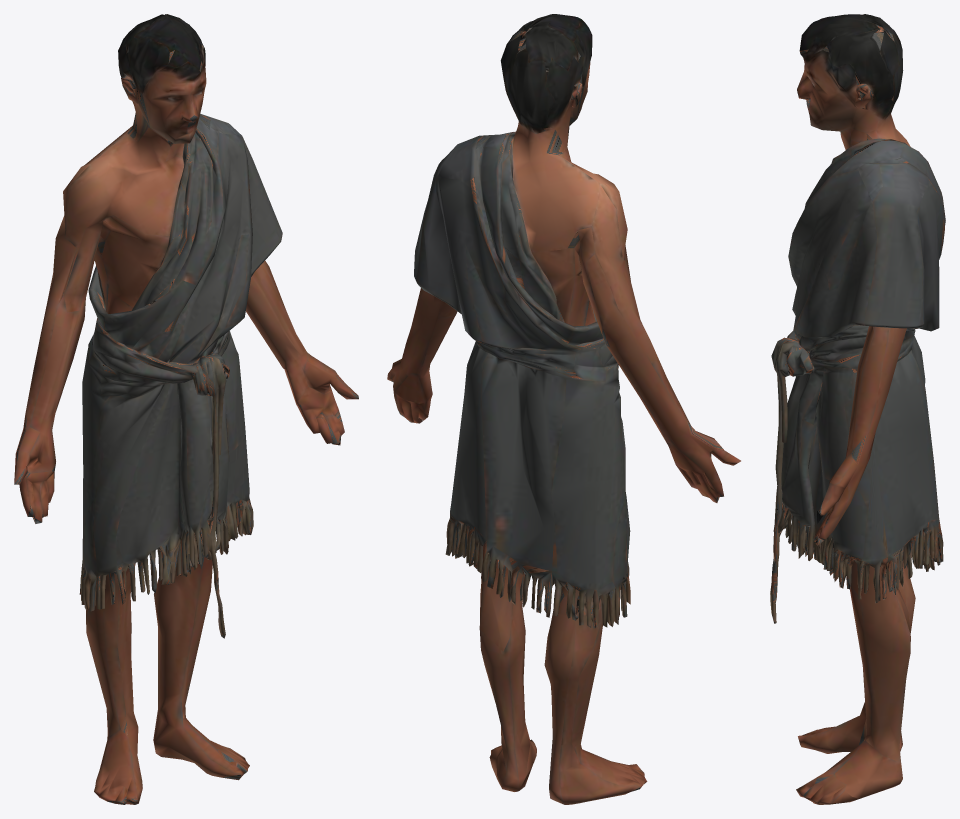
Rendered from esclavo.glb.
The picture shows the model from 3 angles, left to right: view 1: azimuth 30°, elevation 25°; view 2: azimuth 150°, elevation 25°; view 3: azimuth 270°, elevation 25°; orthographic projection.
Visible parts, largest first — view 1: esclavo; view 2: esclavo; view 3: esclavo.
Boxes of the visible parts, x1,y1,x2,y2 form: esclavo: [14, 14, 358, 804]; esclavo: [387, 14, 740, 804]; esclavo: [770, 14, 945, 804].
Size of the model in its own units: 0.8695 by 1.8 by 0.3777.
1 material, 1 textured.
